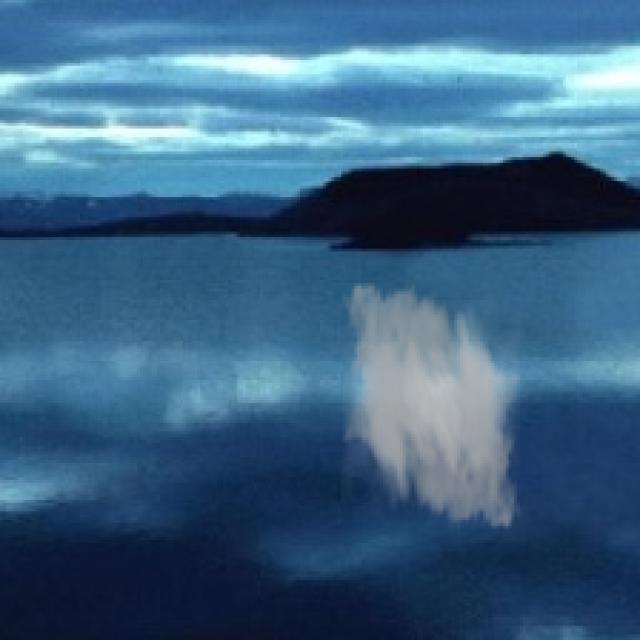Smoke: (328, 271, 532, 540)
